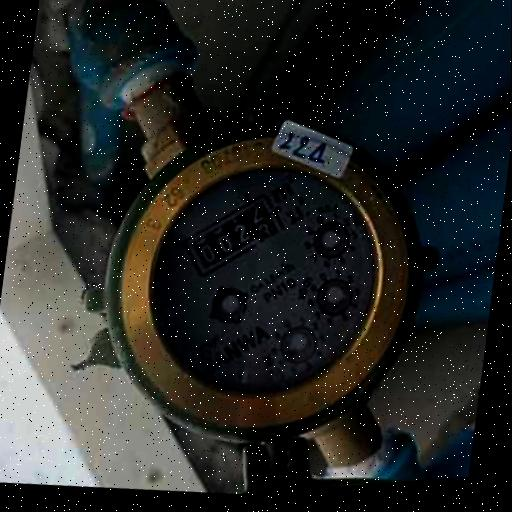0: (204, 218, 243, 263), (188, 230, 225, 272)
2: (239, 195, 284, 247), (222, 209, 261, 252)
border_water_meter_number: (176, 180, 292, 290)
